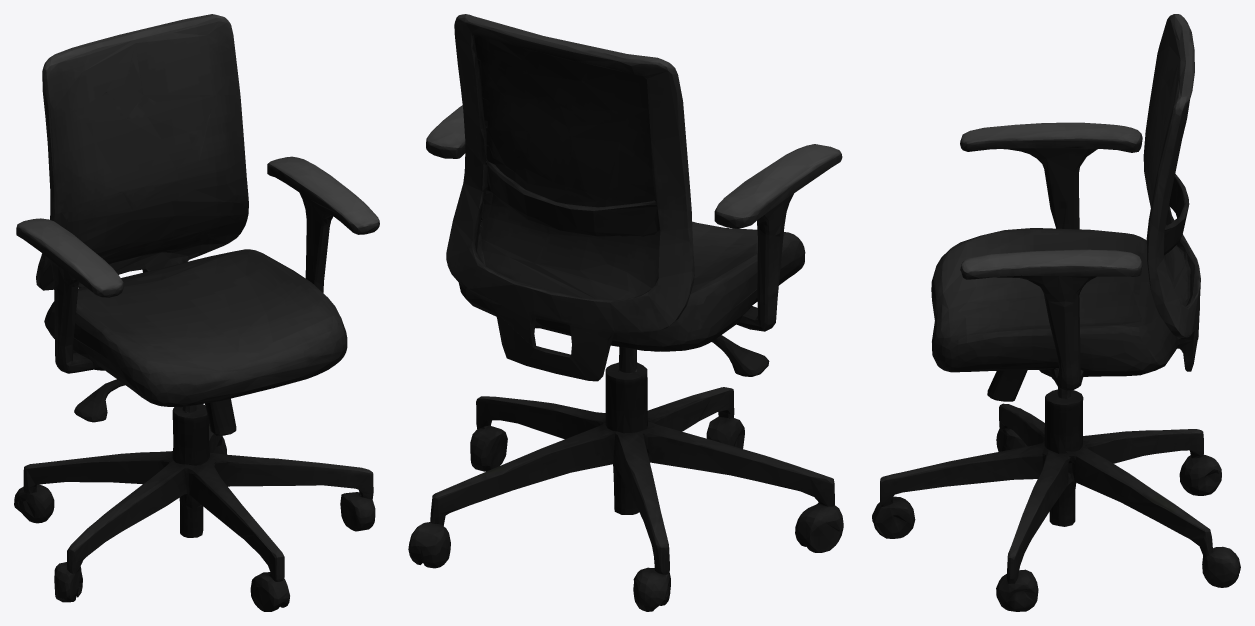
Rendered from desk_chair.glb.
The picture shows the model from 3 angles, left to right: view 1: azimuth 30°, elevation 25°; view 2: azimuth 150°, elevation 25°; view 3: azimuth 270°, elevation 25°; orthographic projection. The views are drawn at different scales.
Parts seen in each view (by area): view 1: geometry_0; view 2: geometry_0; view 3: geometry_0.
Boxes of the visible parts, x1,y1,x2,y2 form: geometry_0: (14, 14, 379, 611); geometry_0: (408, 14, 843, 611); geometry_0: (872, 14, 1240, 611).
Size of the model in its own units: 0.7089 by 1 by 0.6964.
Materials: 1 (1 with a texture image).
